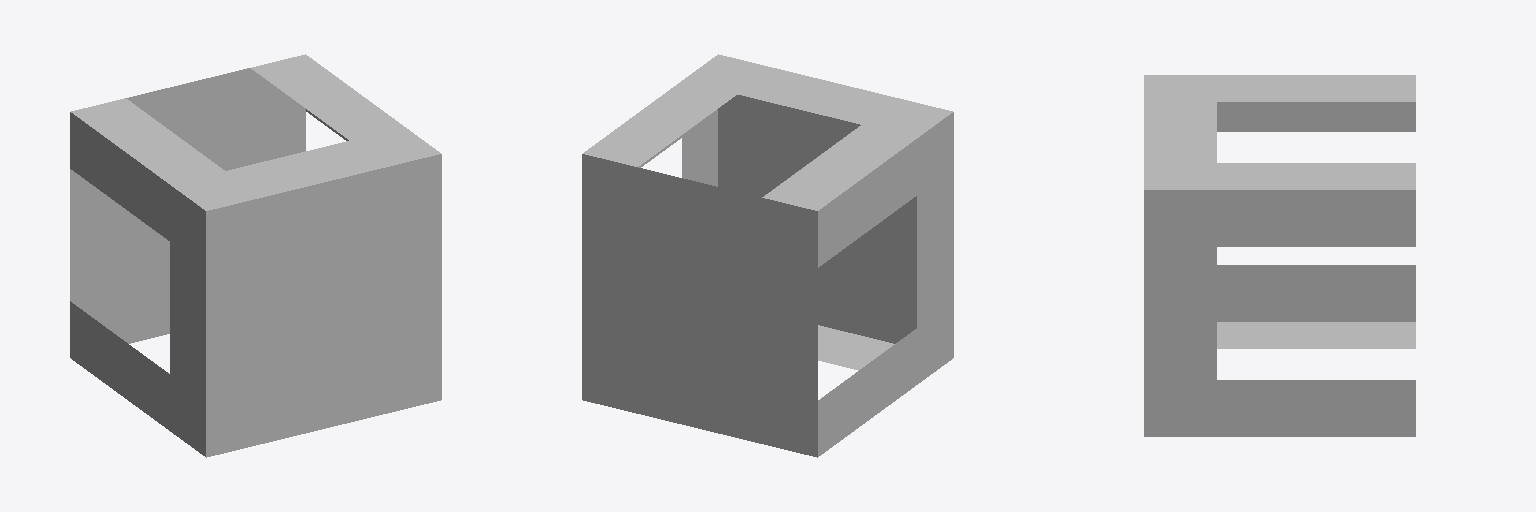
Rendered from room1.obj.
3 renders of one model, left to right at view 1: azimuth 30°, elevation 25°; view 2: azimuth 150°, elevation 25°; view 3: azimuth 270°, elevation 25°, orthographic.
Visible parts, largest first — view 1: Room; view 2: Room; view 3: Room.
Boxes of the visible parts, x1=… form: Room: x1=70, y1=54, x2=441, y2=457; Room: x1=582, y1=54, x2=953, y2=457; Room: x1=1144, y1=75, x2=1415, y2=436.
Size of the model in its own units: 33.73 by 33.73 by 33.73.